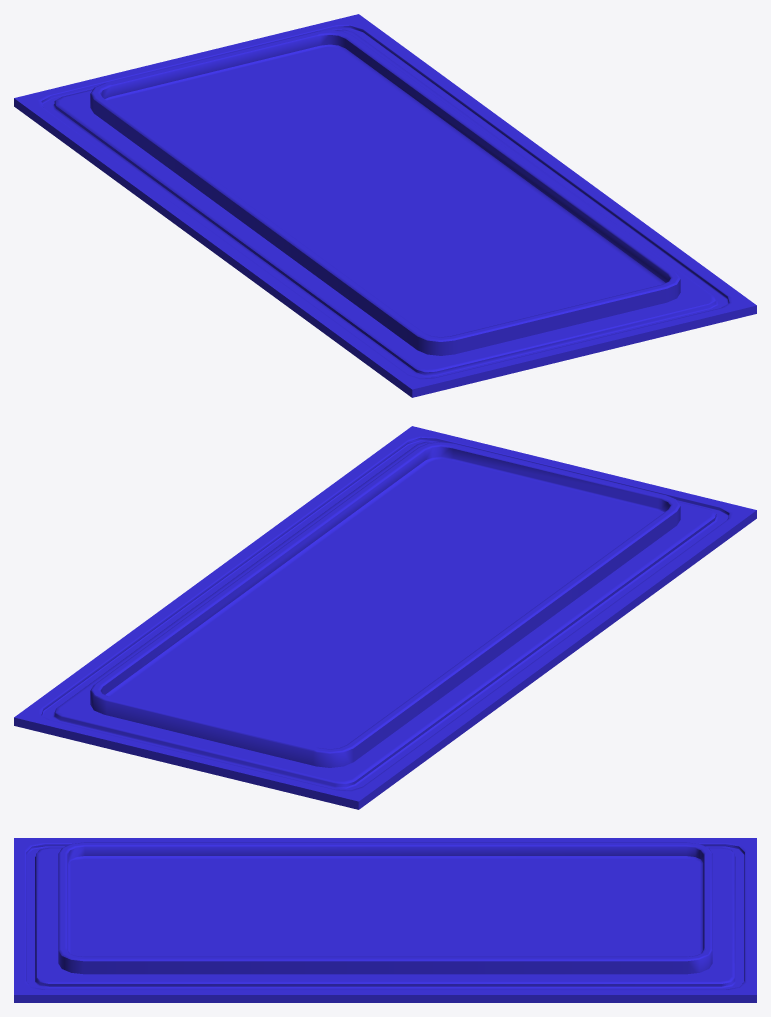
File: Detail01_Lamp.fbx
The picture shows the model from 3 angles, top to bottom: view 1: azimuth 30°, elevation 25°; view 2: azimuth 150°, elevation 25°; view 3: azimuth 270°, elevation 25°; orthographic projection. The views are drawn at different scales.
Parts seen in each view (by area): view 1: SM_Detail01_Lamp; view 2: SM_Detail01_Lamp; view 3: SM_Detail01_Lamp.
Boxes of the visible parts, x1=… form: SM_Detail01_Lamp: x1=14, y1=14, x2=756, y2=397; SM_Detail01_Lamp: x1=14, y1=426, x2=756, y2=809; SM_Detail01_Lamp: x1=14, y1=838, x2=756, y2=1002.
Bounding box in the file's own units: 100 × 6.92 × 200.
